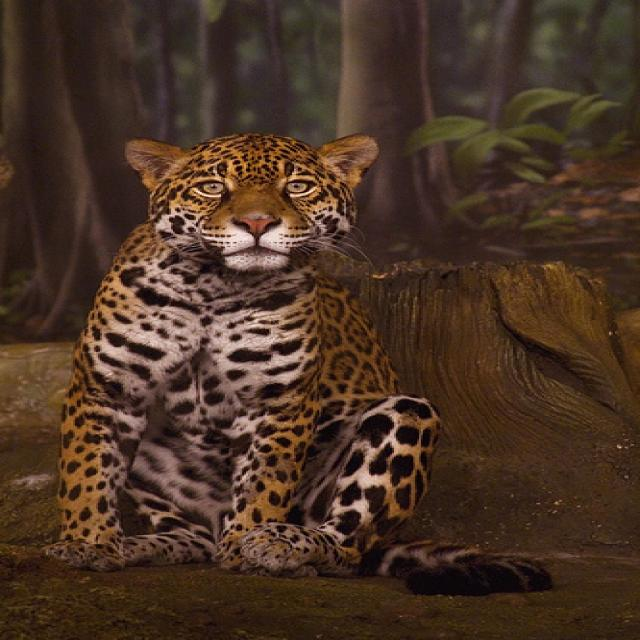Leopard: (58, 130, 546, 594)
